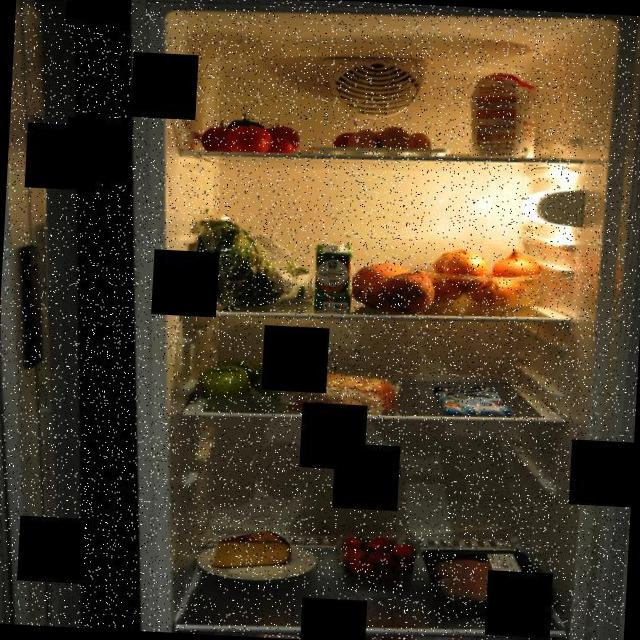Carne pollo: (417, 544, 556, 624)
Cebolla: (418, 241, 546, 317)
Huevos: (328, 120, 436, 160)
Manzana: (196, 352, 313, 407)
Queso: (207, 528, 298, 574)
Tomate: (192, 105, 304, 158)
bread: (280, 366, 402, 418)
chocolate: (430, 381, 514, 419)
heavy_cream: (308, 238, 358, 314)
spinach: (186, 212, 322, 314)
strawberries: (334, 526, 421, 586)
sugar: (461, 68, 546, 162)
sweet_potato: (342, 256, 438, 318)
